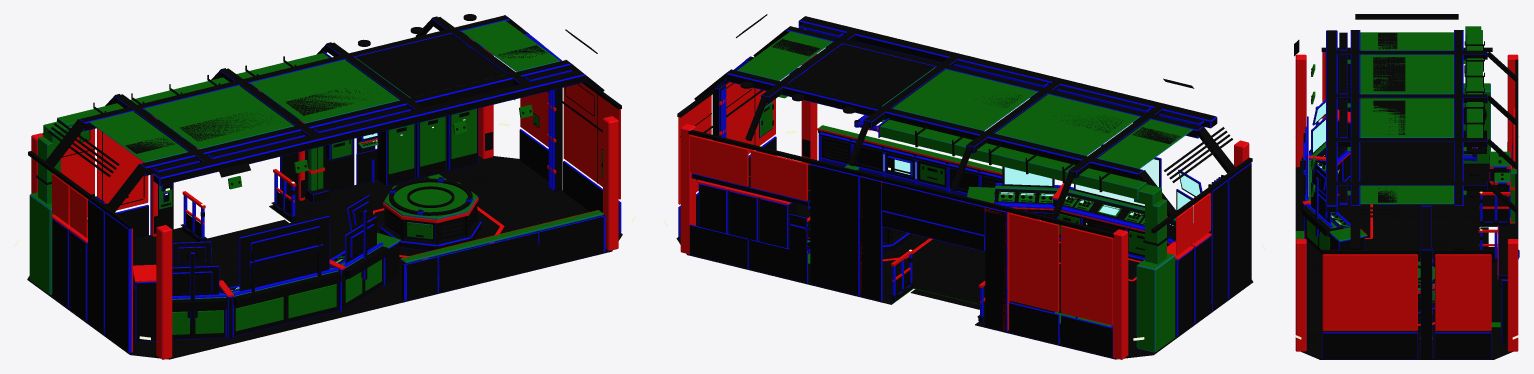
File: SM_CommandCenter_Interior.fbx
3 views of the same model, side by side, from view 1: azimuth 30°, elevation 25°; view 2: azimuth 150°, elevation 25°; view 3: azimuth 270°, elevation 25° (orthographic). The views are drawn at different scales.
Parts seen in each view (by area): view 1: SM_CommandCenter_Interior; view 2: SM_CommandCenter_Interior; view 3: SM_CommandCenter_Interior.
Part boxes in pixels (<box>): SM_CommandCenter_Interior: <box>14,14,635,359</box>; SM_CommandCenter_Interior: <box>664,14,1265,359</box>; SM_CommandCenter_Interior: <box>1294,14,1519,359</box>.
Size of the model in its own units: 14.99 by 5.13 by 6.99.
